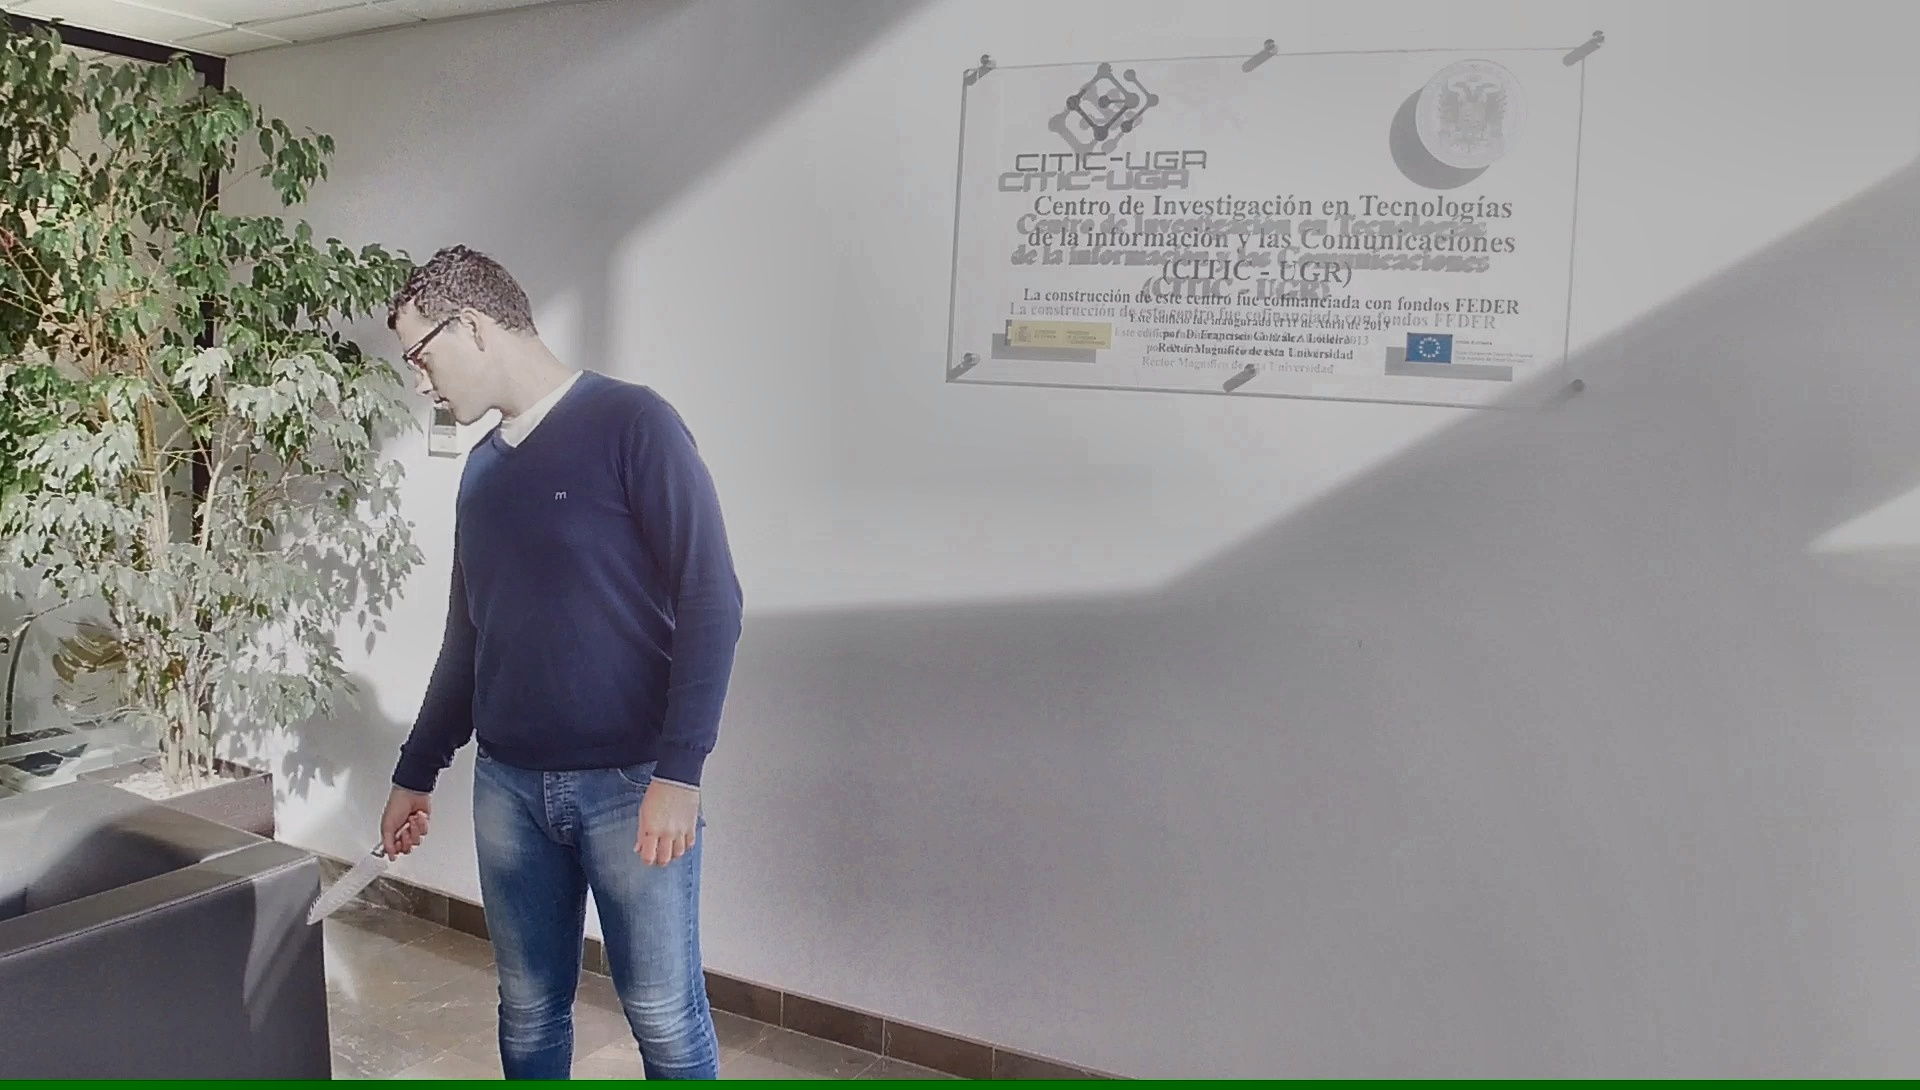knife: (294, 805, 430, 934)
